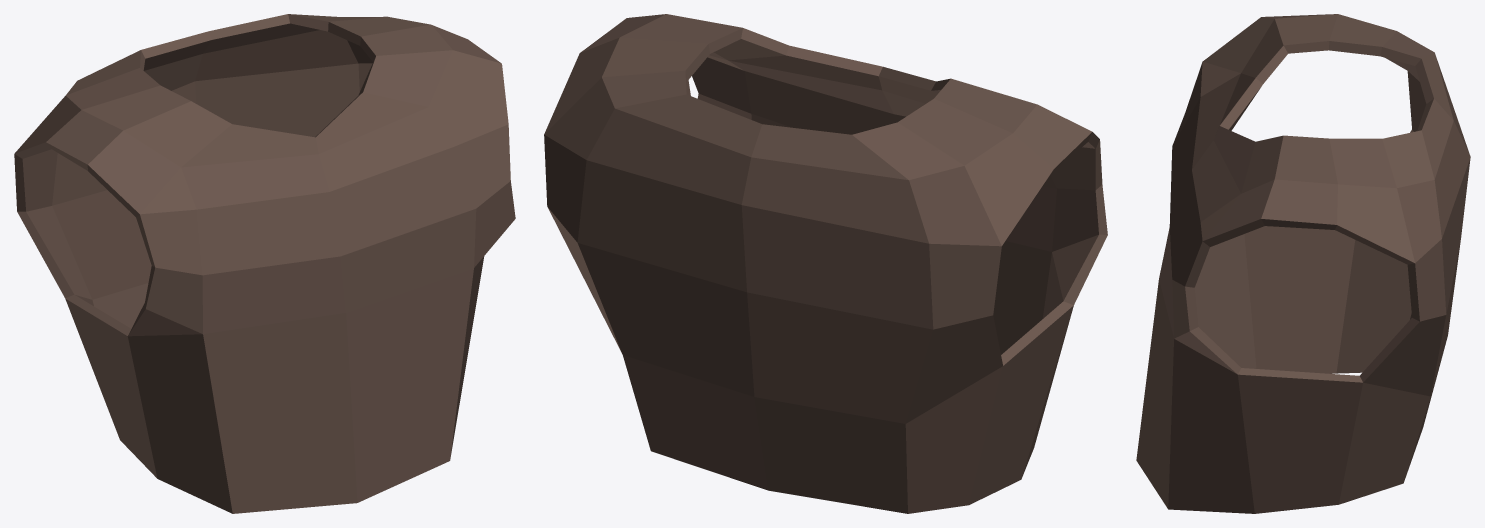
Rendered from Armor_Leather.glb.
3 views of the same model, side by side, from view 1: azimuth 30°, elevation 25°; view 2: azimuth 150°, elevation 25°; view 3: azimuth 270°, elevation 25° (orthographic). The views are drawn at different scales.
Visible parts, largest first — view 1: Armor_Leather; view 2: Armor_Leather; view 3: Armor_Leather.
Boxes of the visible parts, x1=… form: Armor_Leather: x1=14, y1=14, x2=515, y2=513; Armor_Leather: x1=544, y1=14, x2=1107, y2=513; Armor_Leather: x1=1136, y1=14, x2=1470, y2=513.
Bounding box in the file's own units: 0.42 × 0.3538 × 0.2887.
